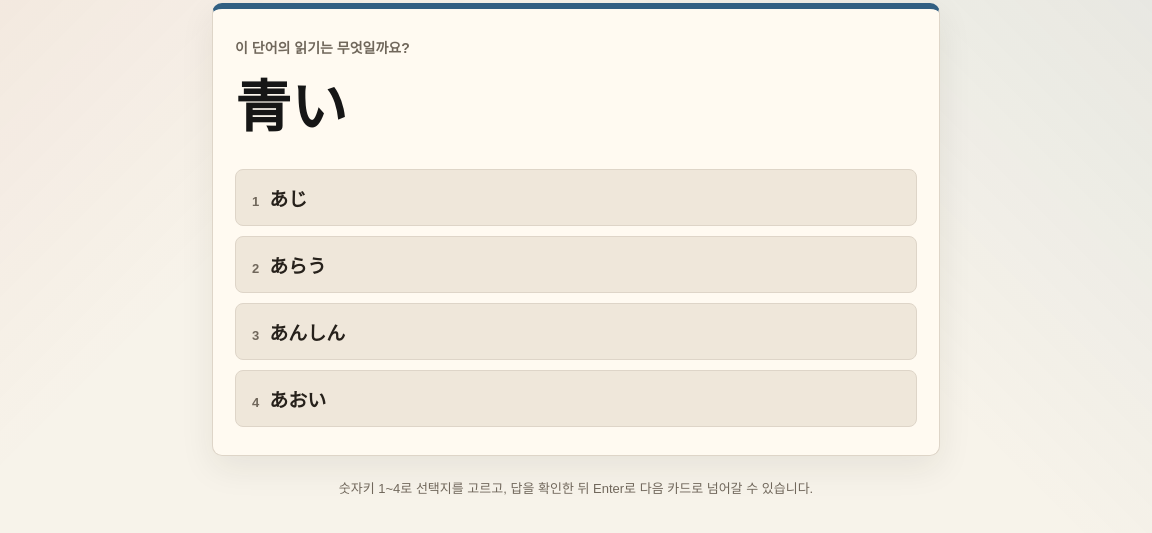
Test case: 학습 화면 (S1, AC-4) › 오답을 고르면 오답 표시와 정답을 함께 보여 준다 (JN4-008)
Step 1. Click the button "1あじ" → (288, 200), box [235,169,917,226]
(page scrolled)
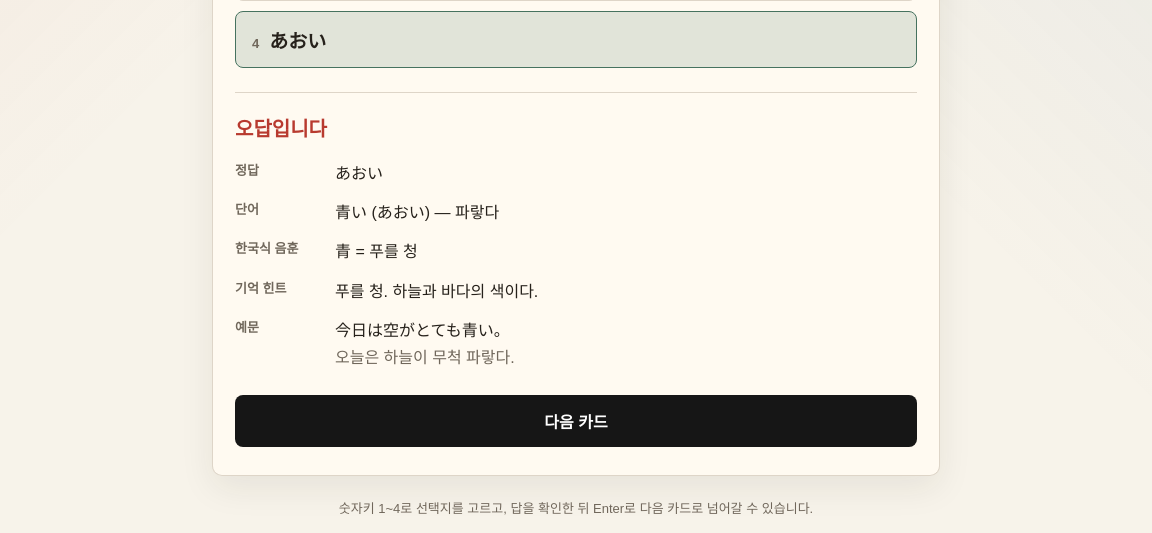
Now the text with test id "verdict" shows "오답", box [235,118,327,140]
Now the element with test id "answer" reads "あおい", box [335,165,383,182]
